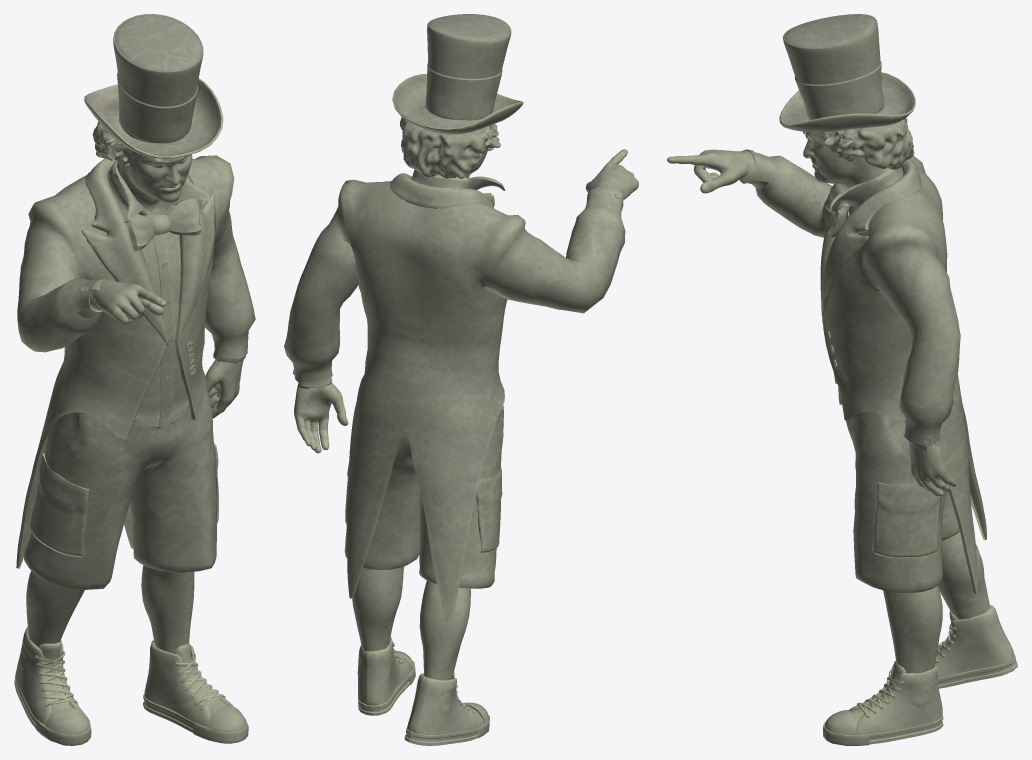
The model's file is statue.glb.
3 views of the same model, side by side, from view 1: azimuth 30°, elevation 25°; view 2: azimuth 150°, elevation 25°; view 3: azimuth 270°, elevation 25° (orthographic). The views are drawn at different scales.
Visible parts, largest first — view 1: FTX__Gesture__Lowpoly; view 2: FTX__Gesture__Lowpoly; view 3: FTX__Gesture__Lowpoly.
Part boxes in pixels (x1=…): FTX__Gesture__Lowpoly: x1=14, y1=14, x2=255, y2=745; FTX__Gesture__Lowpoly: x1=284, y1=14, x2=638, y2=745; FTX__Gesture__Lowpoly: x1=667, y1=14, x2=1017, y2=745.
Bounding box in the file's own units: 0.2709 × 0.665 × 0.3101.
Materials: 1 (1 with a texture image).
